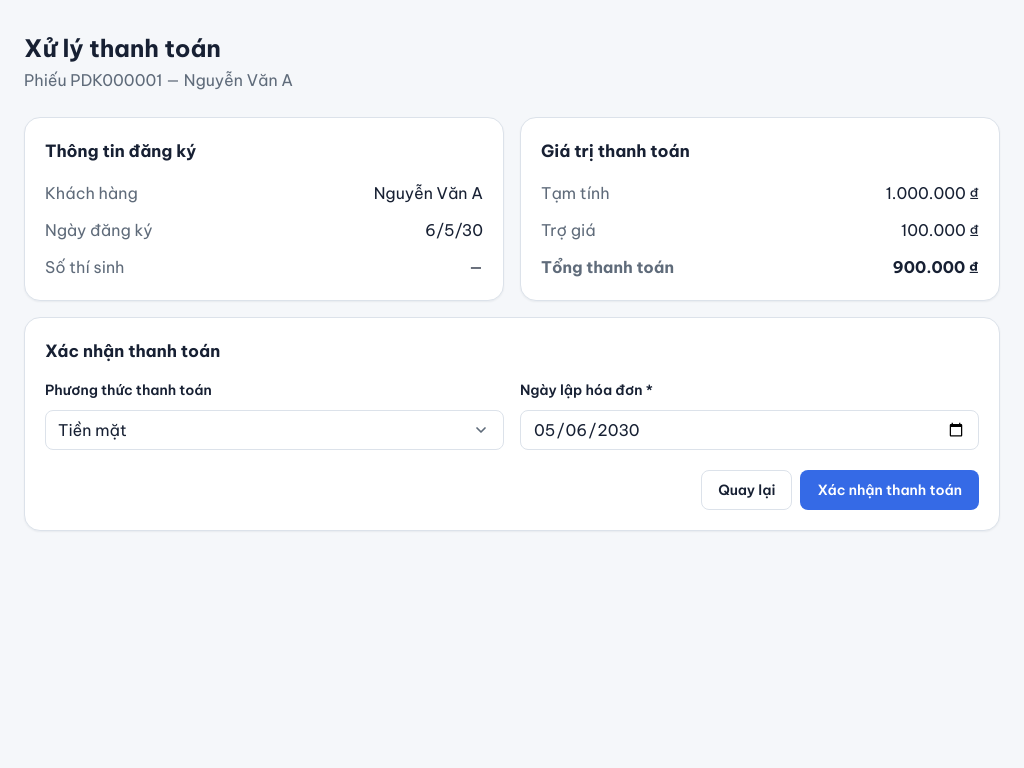
Test case: shows the server quote and becomes a read-only receipt after payment
Expected: the text "900.000 ₫" is shown, [893,257,979,277]
Select "Chuyển khoản" in the dropdown labelled "Phương thức thanh toán" at (274, 430), box [45,410,504,450]
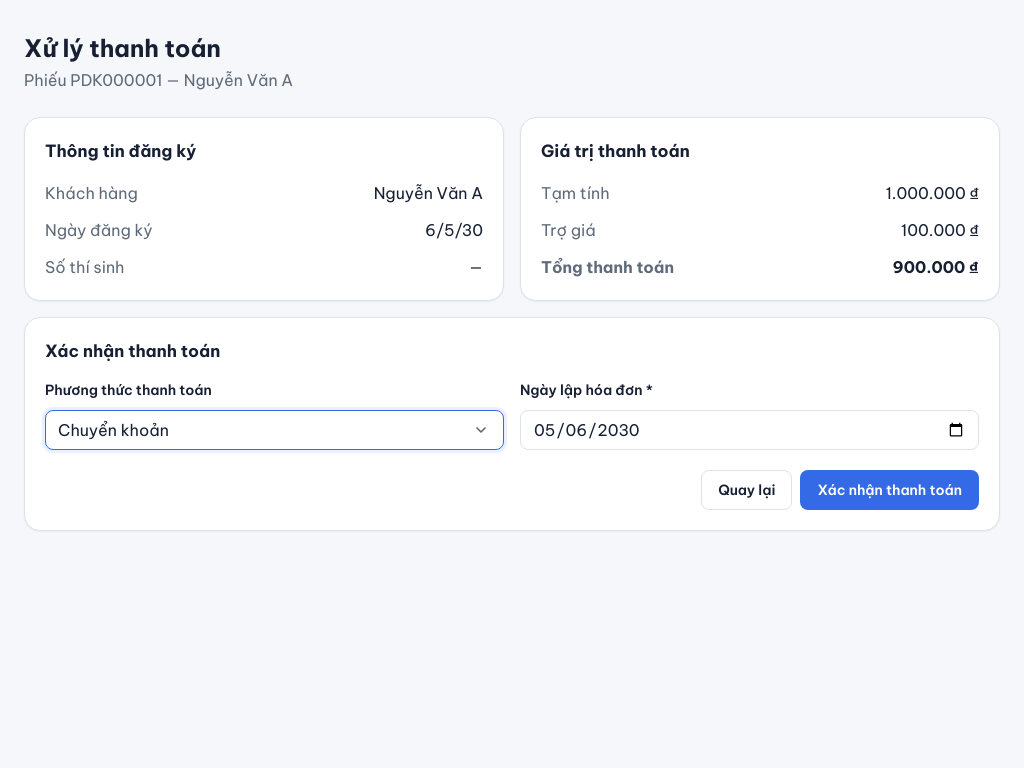
Click the button "Xác nhận thanh toán".
click(890, 490)  # box [800,470,979,510]
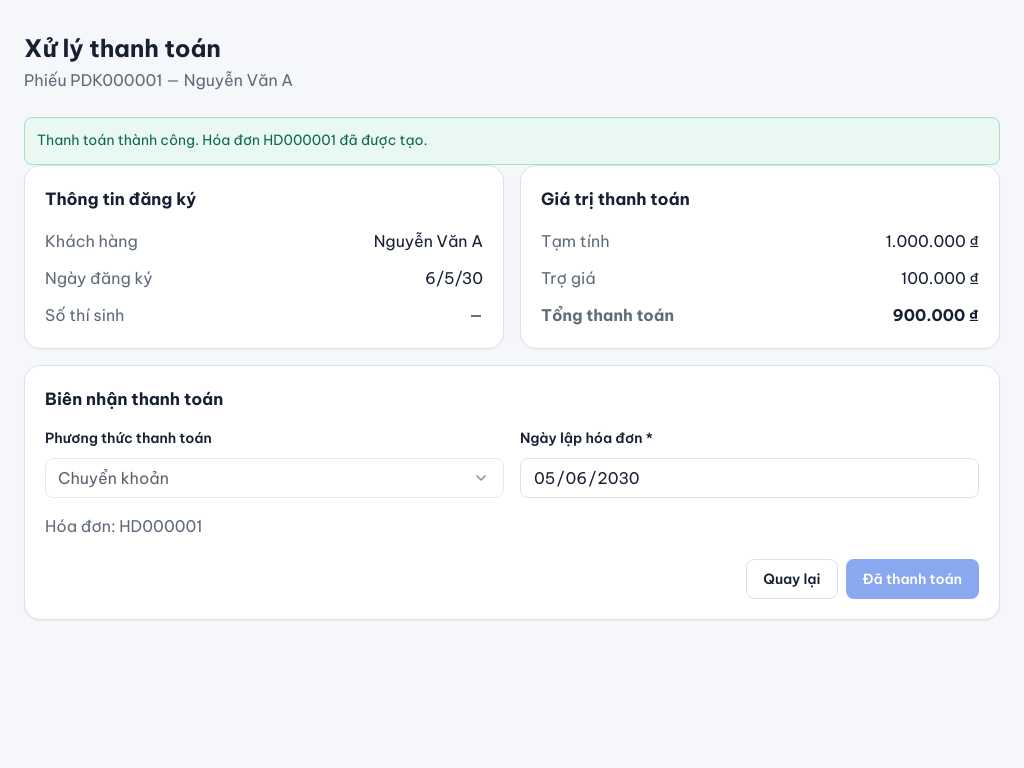
Expected: the message shows "Thanh toán thành công", [37,131,428,149]
Expected: the button "Đã thanh toán" is disabled, [846,560,979,600]
